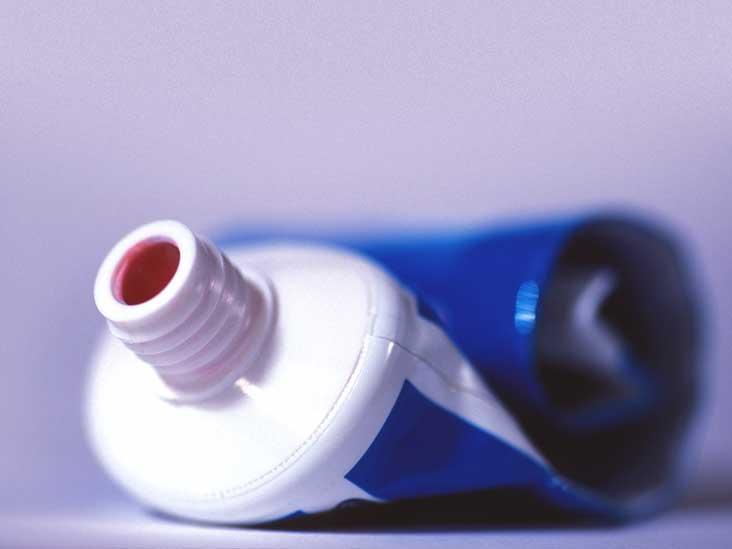toothpaste: (59, 148, 724, 545)
